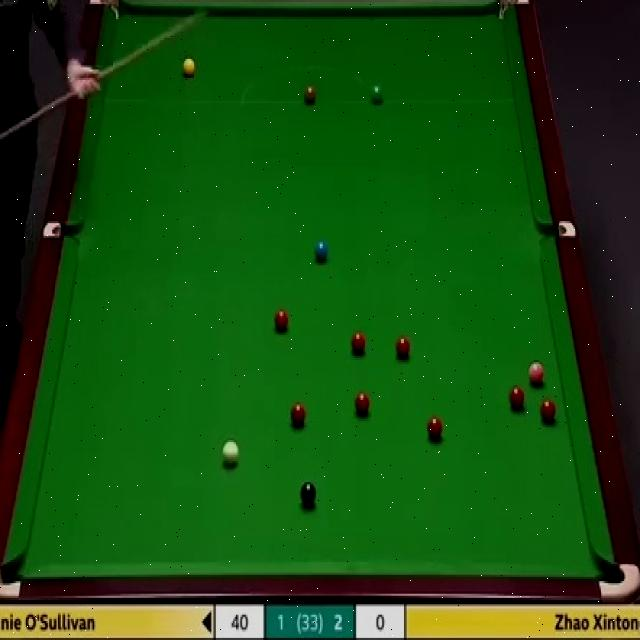black-ball: (300, 480, 316, 510)
blue-ball: (314, 237, 329, 265)
brown-ball: (303, 85, 318, 104)
green-ball: (369, 82, 385, 106)
pink-ball: (527, 362, 546, 383)
red-ball: (289, 402, 306, 429), (426, 415, 443, 442), (351, 329, 367, 355), (396, 334, 411, 361), (508, 385, 526, 407), (354, 391, 369, 417), (273, 307, 288, 332), (541, 398, 556, 421)
white-ball: (222, 439, 242, 464)
yellow-ball: (183, 59, 196, 79)
